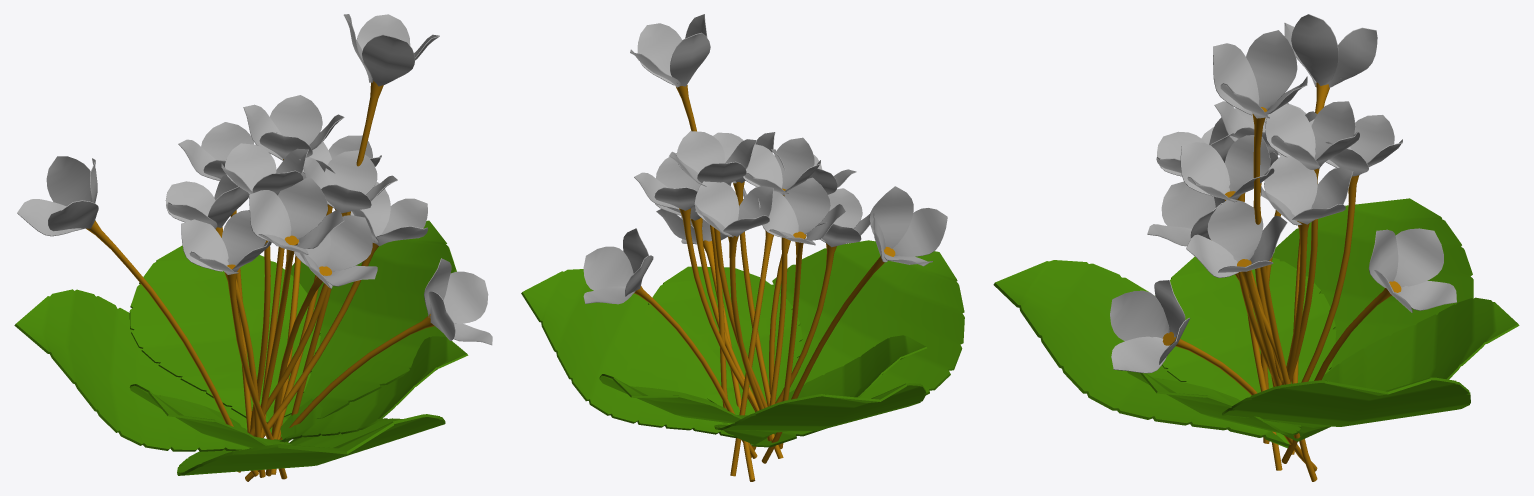
Rendered from Florzinha_2.fbx.
3 renders of one model, left to right at view 1: azimuth 30°, elevation 25°; view 2: azimuth 150°, elevation 25°; view 3: azimuth 270°, elevation 25°, orthographic. The views are drawn at different scales.
Visible parts, largest first — view 1: pCube30, pCube33, pCylinder1 (×14), pCube34, pCube27 (×10), pCube26 (×8), pCube29 (×9), pCube28 (×8), pCube35, pCube31, pCube32; view 2: pCube35, pCube34, pCylinder1 (×14), pCube26 (×8), pCube28 (×8), pCube31, pCube27 (×5), pCube33, pCube32, pCube30, pCube29 (×3); view 3: pCube35, pCube32, pCube33, pCube29 (×8), pCylinder1 (×11), pCube28 (×7), pCube26 (×6), pCube30, pCube34, pCube27 (×5), pCube31.
Part boxes in pixels (x1,y1,x2,y2): pCube30: (129,245,320,422); pCube33: (14,289,250,451); pCylinder1 (×14): (86,81,434,481); pCube34: (270,220,456,437); pCube27 (×10): (201,34,451,317); pCube26 (×8): (48,184,488,323); pCube29 (×9): (17,14,492,345); pCube28 (×8): (46,104,455,340); pCube35: (177,414,445,475); pCube31: (280,336,468,442); pCube32: (129,384,291,448); pCube35: (750,240,964,447); pCube34: (521,269,737,438); pCylinder1 (×14): (634,85,895,481); pCube26 (×8): (656,32,947,256); pCube28 (×8): (583,23,862,290); pCube31: (644,266,802,415); pCube27 (×5): (623,137,913,273); pCube33: (714,383,926,444); pCube32: (788,335,926,399); pCube30: (599,374,747,423); pCube29 (×3): (583,139,773,304); pCube35: (993,260,1289,448); pCube32: (1162,256,1336,400); pCube33: (1272,198,1473,369); pCube29 (×8): (1111,104,1456,373); pCylinder1 (×11): (1162,82,1401,481); pCube28 (×7): (1110,27,1394,340); pCube26 (×6): (1180,30,1443,287); pCube30: (1322,297,1519,391); pCube34: (1222,377,1470,441); pCube27 (×5): (1154,14,1398,337); pCube31: (1127,371,1301,435).
Size of the model in its own units: 0.8108 by 0.832 by 0.8229.
